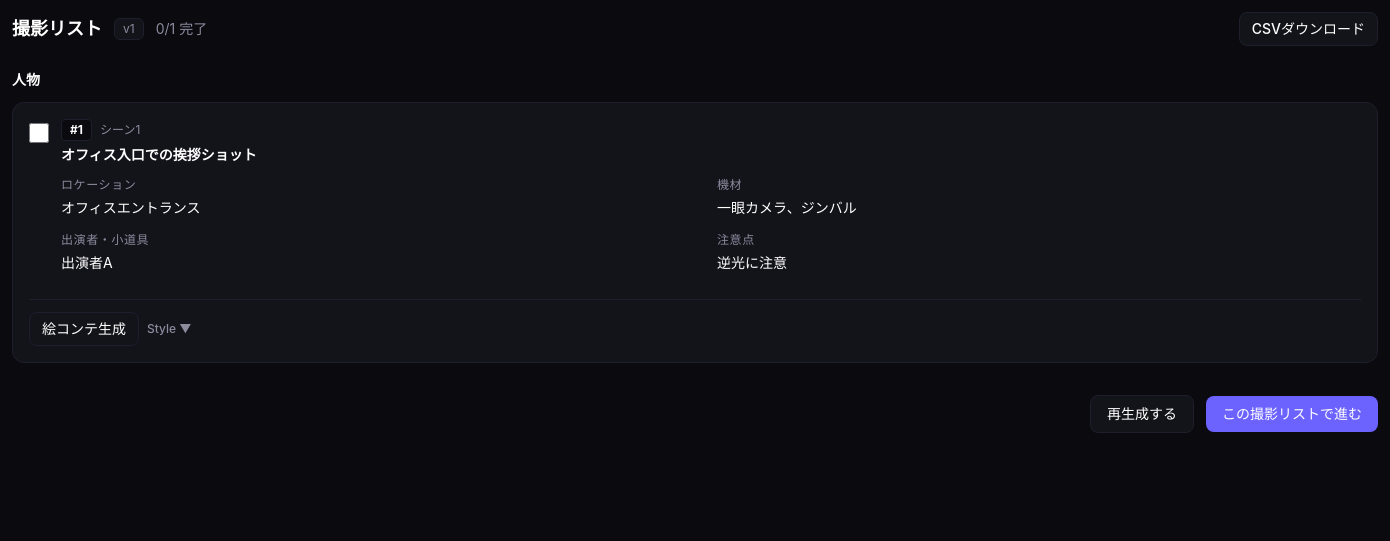
Scenario: ShootingListView shot image generation › expands the Style section to reveal preset and custom options
Click the button "Style ▼" at (169, 328), box [147,320,192,336]
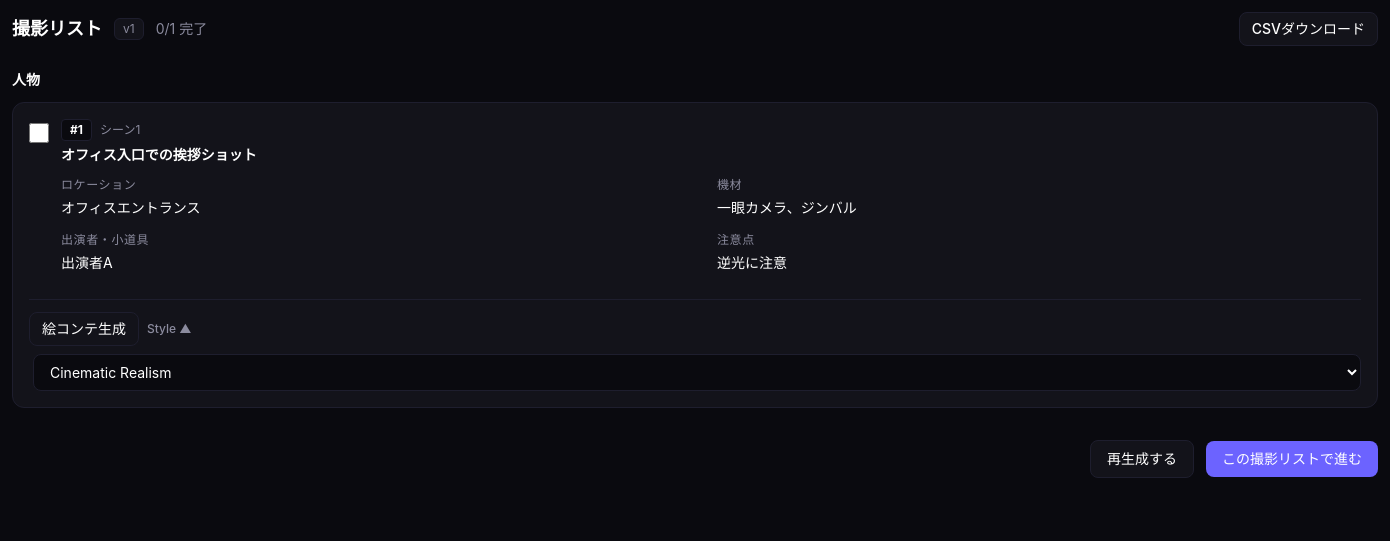
Expected: the dropdown named "Style" is shown
Expected: the dropdown named "Style" shows "Cinematic Realism"
Select "カスタム" in the dropdown named "Style" at (697, 372), box [33,354,1361,390]
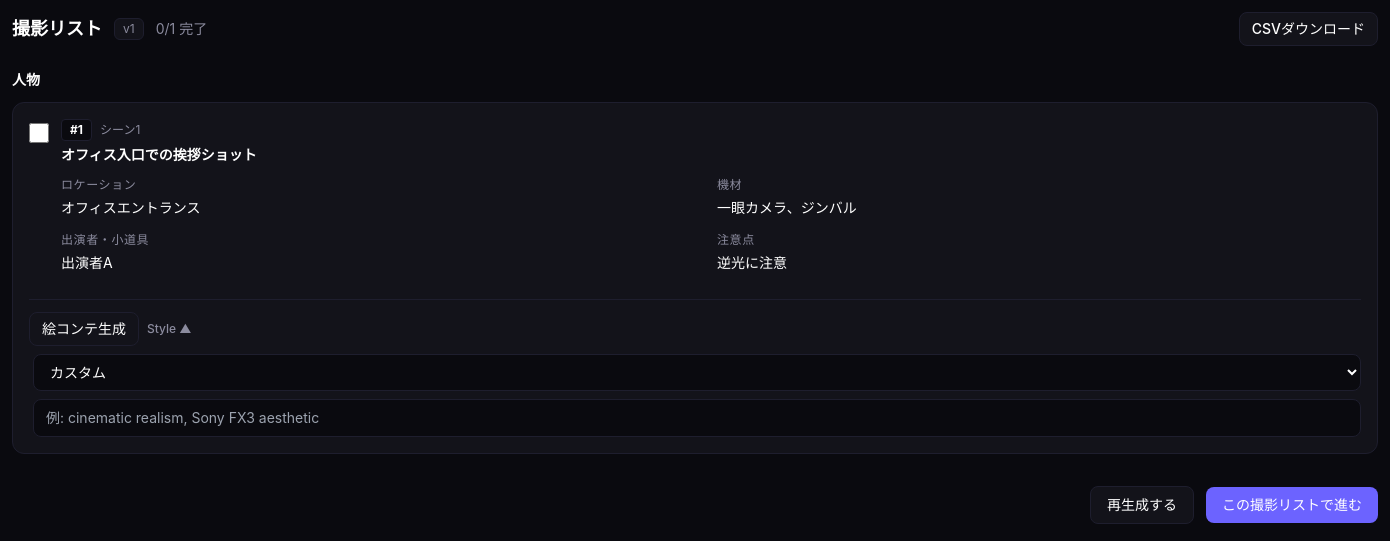
Expected: the field named "カスタムStyle" is shown, [33,398,1361,436]
